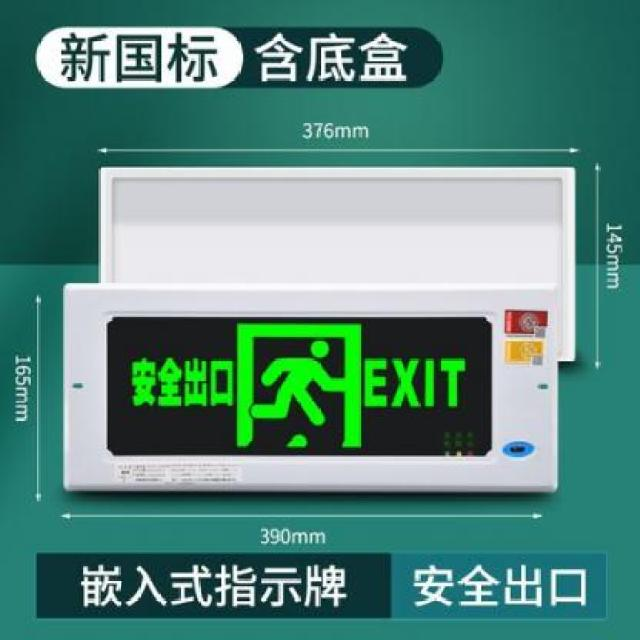exit_sign: (60, 277, 565, 503)
